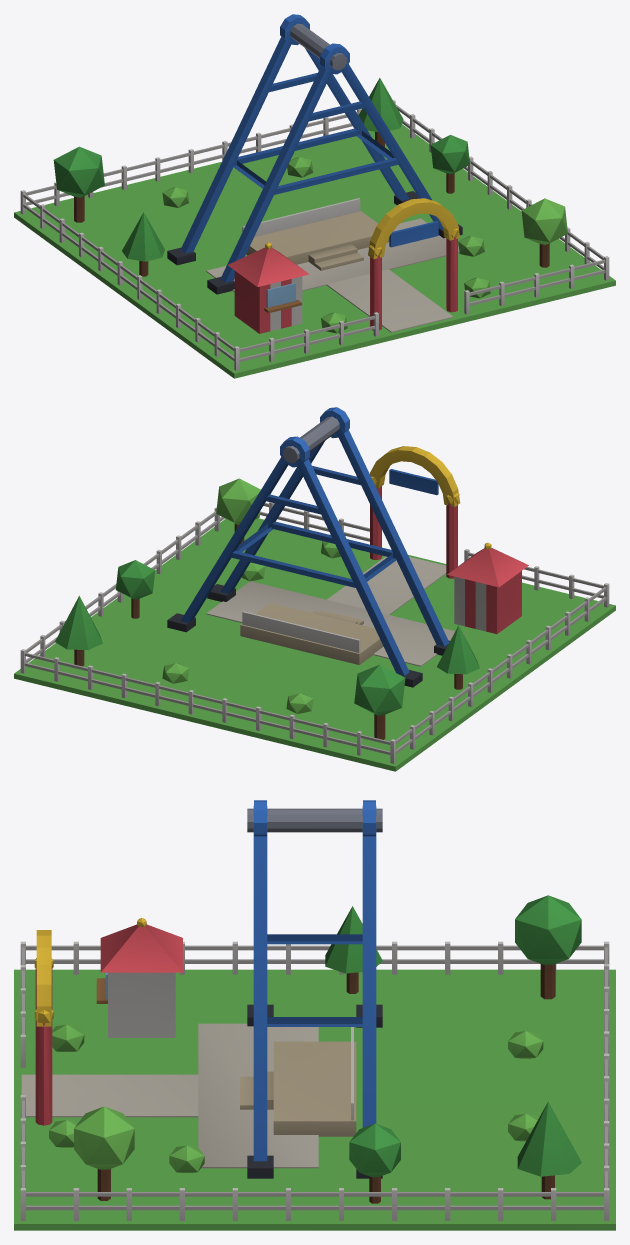
The model's file is bl_ferris_base.glb.
The picture shows the model from 3 angles, top to bottom: view 1: azimuth 30°, elevation 25°; view 2: azimuth 150°, elevation 25°; view 3: azimuth 270°, elevation 25°; orthographic projection. The views are drawn at different scales.
Parts seen in each view (by area): view 1: ferris_base; view 2: ferris_base; view 3: ferris_base.
Part boxes in pixels (x1,y1,x2,y2): ferris_base: (14,14,615,378); ferris_base: (14,407,615,771); ferris_base: (14,800,615,1230).
Size of the model in its own units: 16 by 8.85 by 16.
